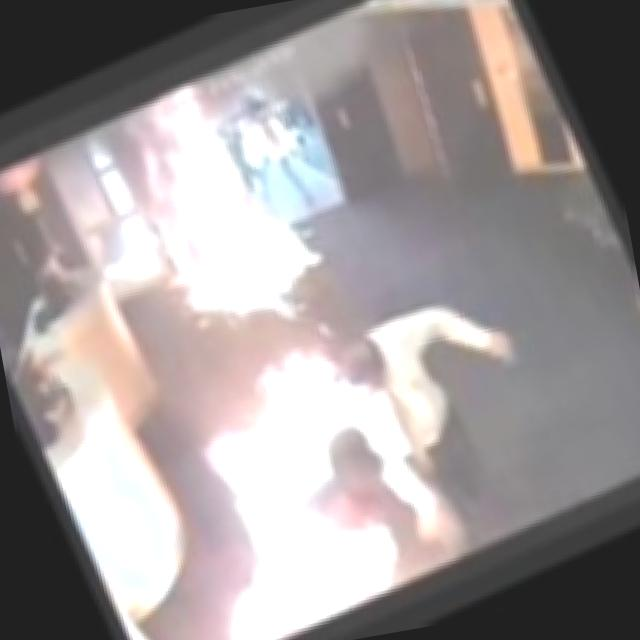fire: (123, 297, 477, 640), (82, 45, 368, 376)
